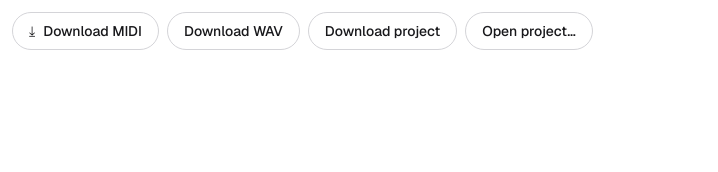
Test: Download WAV › warns after the download when the mix clipped
The image size is (718, 172).
Step 1. Click the button "Download WAV" → (233, 31), box [167,12,300,50]
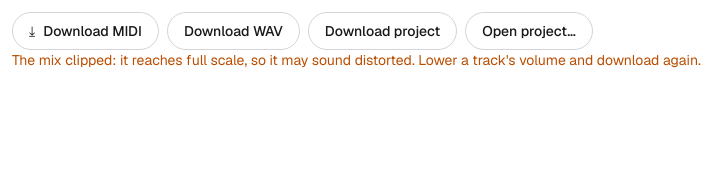
Result: the message shows "clipped" at [12,51,701,69]
